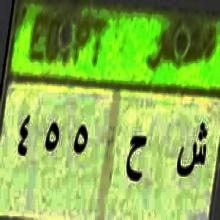4: (16, 109, 31, 163)
5: (70, 120, 91, 162), (41, 116, 60, 162)
7aa: (125, 127, 146, 196)
sheen: (176, 120, 208, 184)
